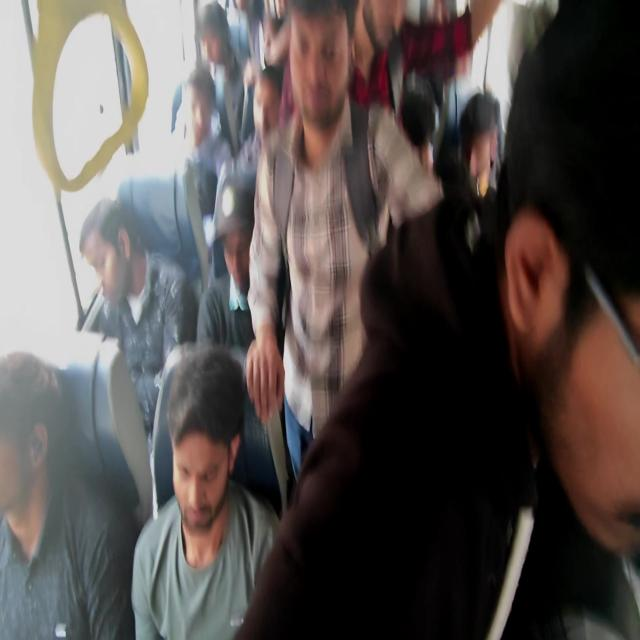person: (232, 0, 639, 638), (492, 1, 639, 638), (244, 1, 399, 484), (130, 340, 282, 638), (0, 350, 136, 638), (195, 161, 290, 502), (79, 196, 197, 447), (117, 66, 233, 283), (171, 1, 252, 157), (196, 165, 258, 360), (456, 90, 503, 242)
